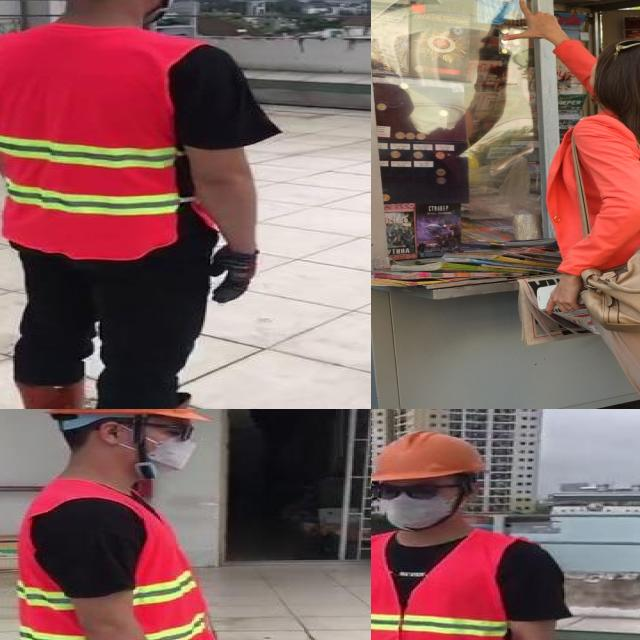boots: (12, 379, 96, 409)
face_mask: (128, 414, 212, 476), (371, 481, 454, 528)
glasses: (371, 477, 450, 503)
hand_glove: (210, 247, 256, 304)
head_helmet: (371, 431, 489, 483), (41, 409, 203, 422)
person: (0, 0, 284, 409), (0, 409, 241, 640), (371, 429, 570, 640)
vest: (0, 26, 195, 261), (16, 481, 218, 640), (371, 531, 510, 640)
